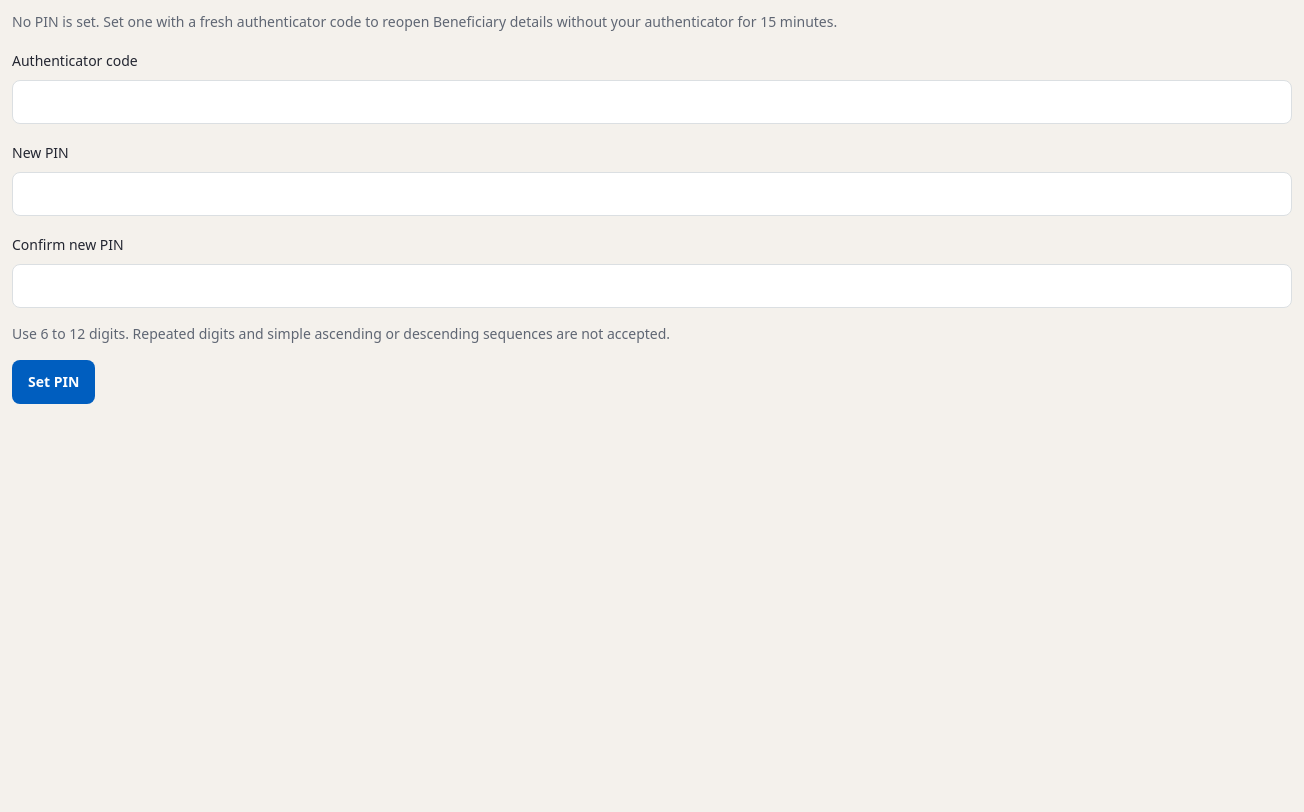
Test: Beneficiary access PIN in My Profile › sets a first PIN only after a fresh authenticator code, then clears the form
This screenshot has width=1304, height=812.
Expected: the text "No PIN is set" is shown, [12,12,837,31]
Type "123456" into the field labelled "Authenticator code". click: (652,102)
box: [12,80,1292,124]
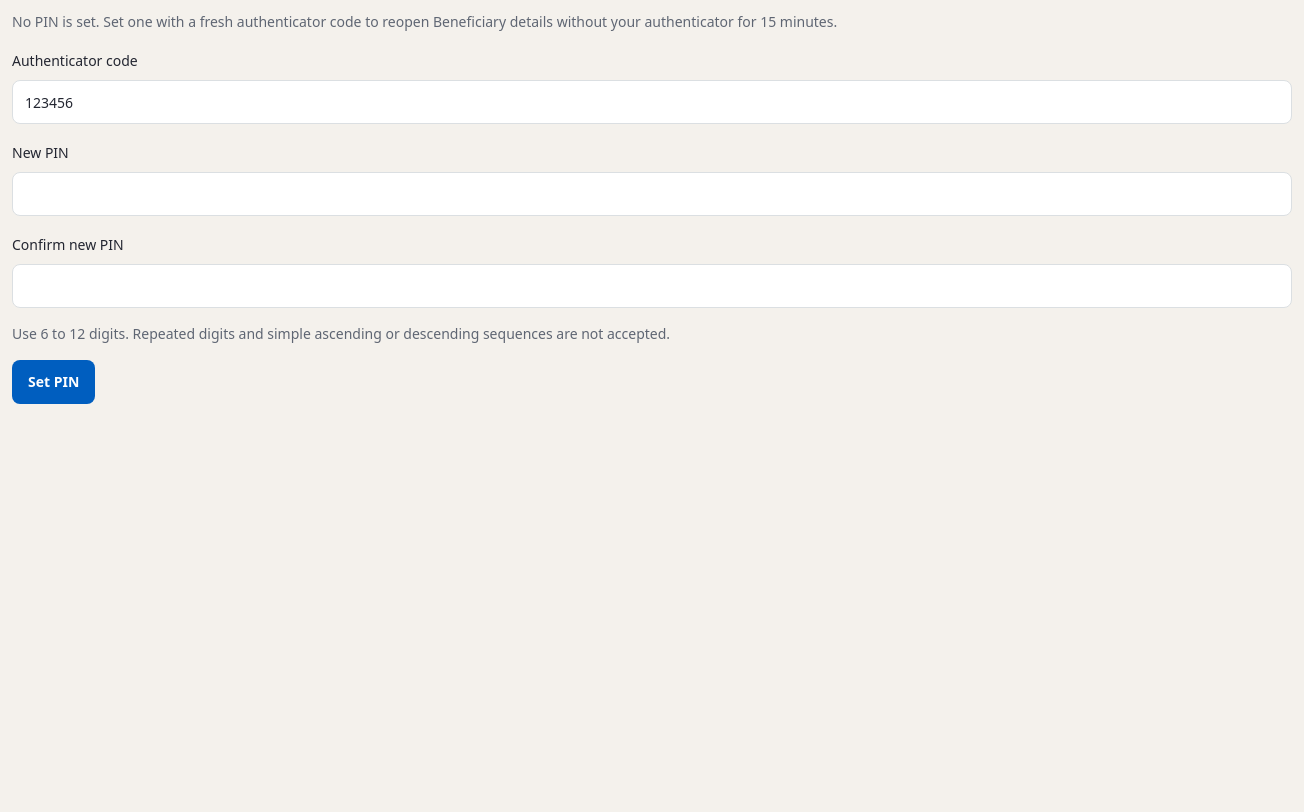
Type "482915" into the password field labelled "New PIN". click: (652,194)
box: [12,172,1292,216]
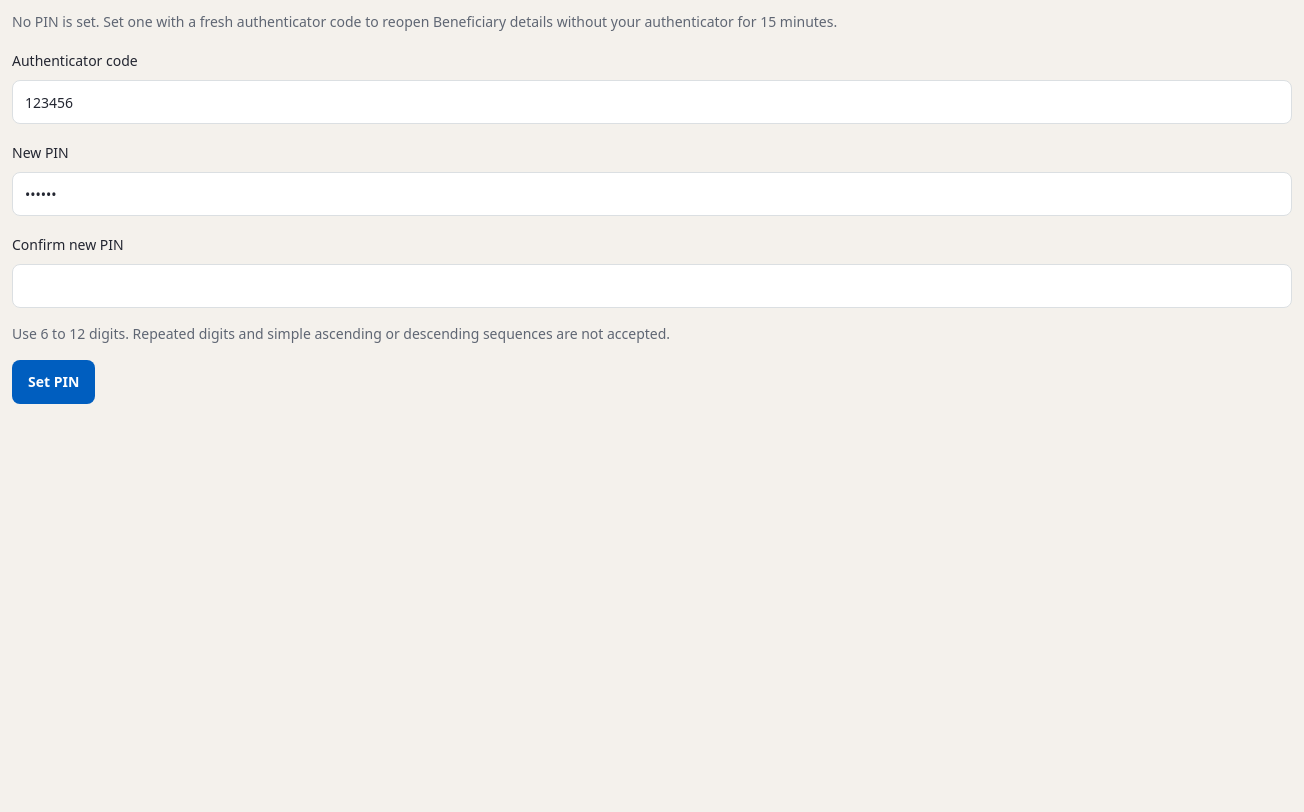
Type "482915" into the password field labelled "Confirm new PIN". click: (652,286)
box: [12,264,1292,308]
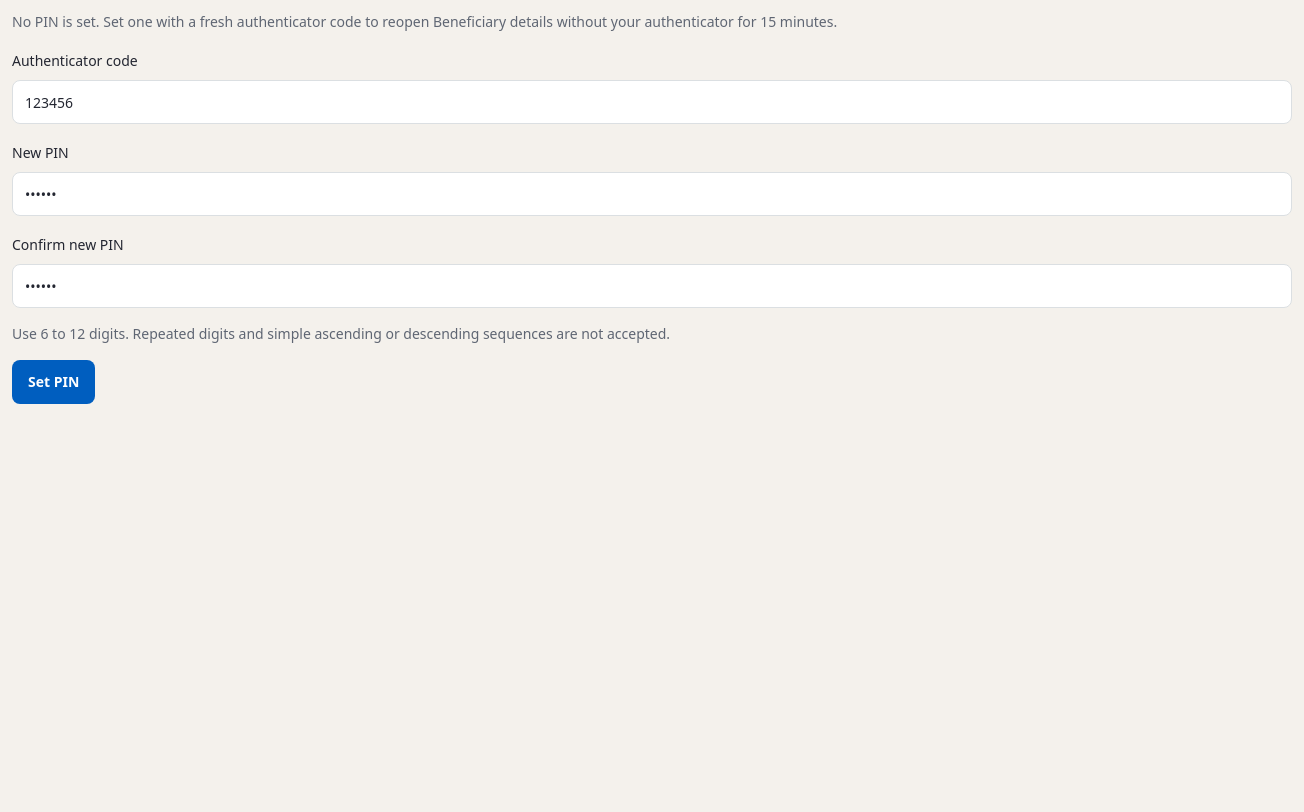
Click the button "Set PIN". click: (54,382)
box: [12,360,95,404]
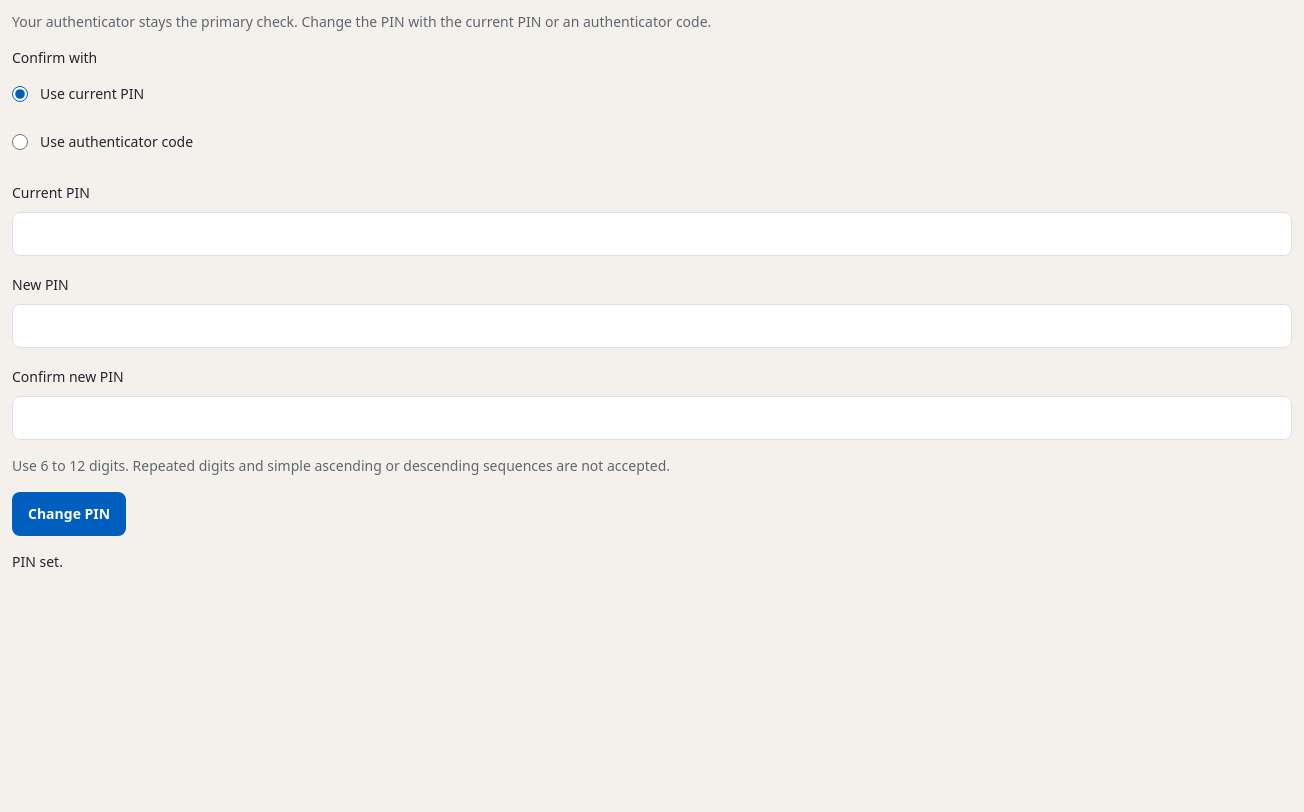
Expected: the text "PIN set." is shown, [12,552,63,571]
